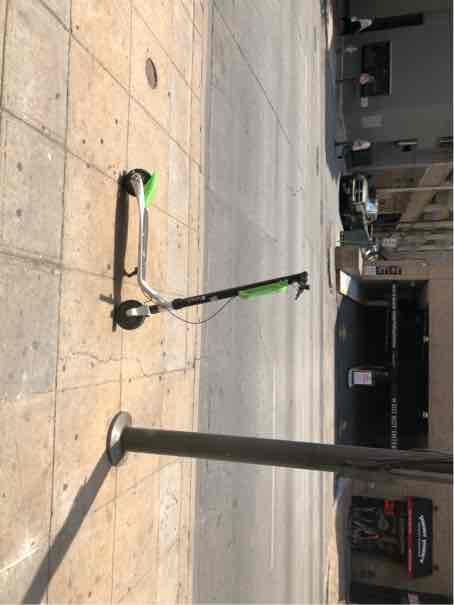scooter: (115, 184, 346, 354)
